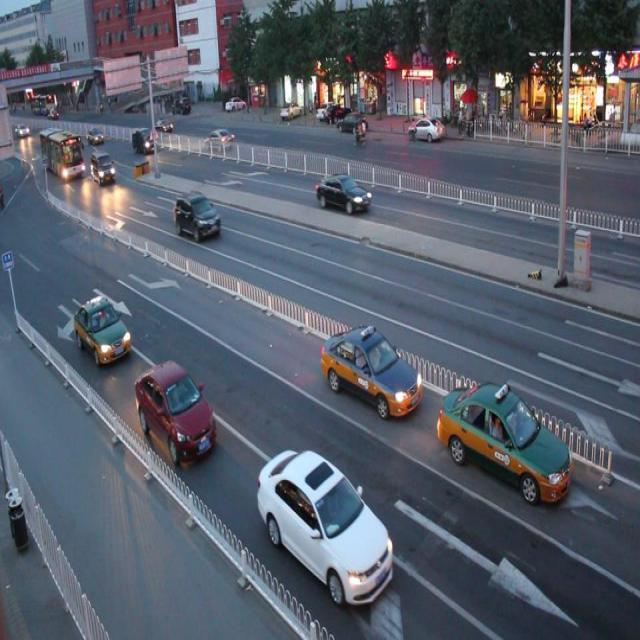car: (256, 446, 394, 602), (439, 375, 572, 502), (321, 321, 423, 417), (134, 358, 218, 460), (72, 297, 133, 364), (173, 188, 222, 240), (315, 174, 369, 209), (203, 127, 236, 150)
